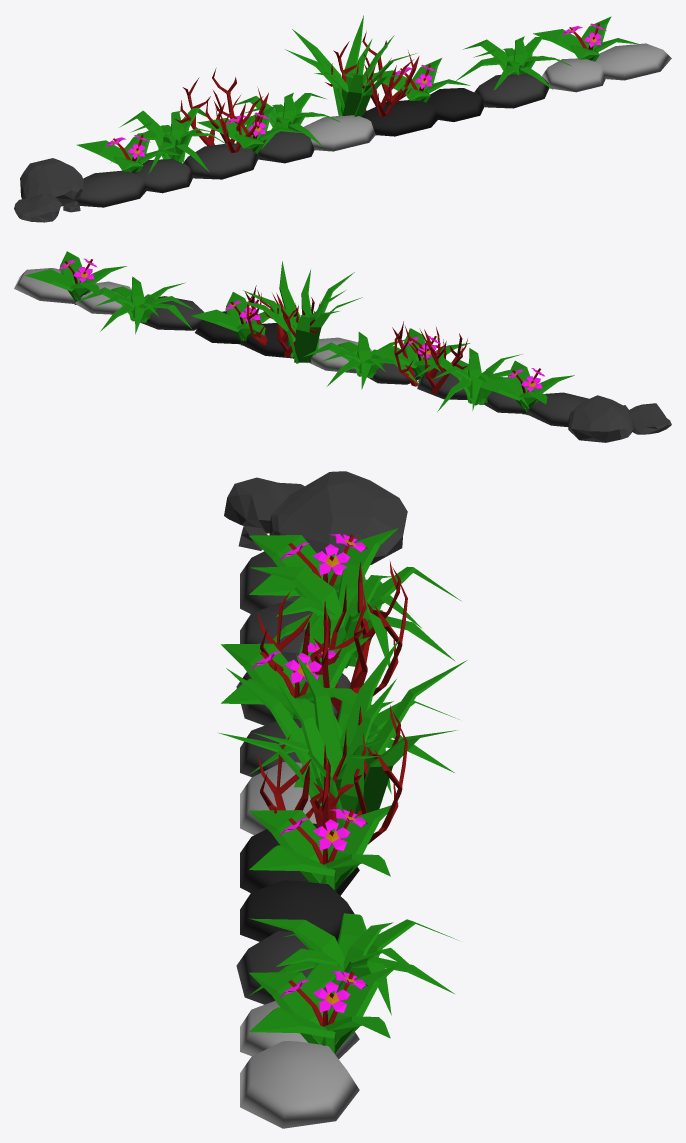
Rendered from flower-rocks.fbx.
3 renders of one model, top to bottom at view 1: azimuth 30°, elevation 25°; view 2: azimuth 150°, elevation 25°; view 3: azimuth 270°, elevation 25°, orthographic. The views are drawn at different scales.
Visible parts, largest first — view 1: Sphere001; view 2: Sphere001; view 3: Sphere001.
Part boxes in pixels (left/top/right/bottom): Sphere001: left=14, top=15, right=671, bottom=222; Sphere001: left=14, top=251, right=671, bottom=442; Sphere001: left=219, top=471, right=467, bottom=1128.
Bounding box in the file's own units: 448 × 55.85 × 75.74.
